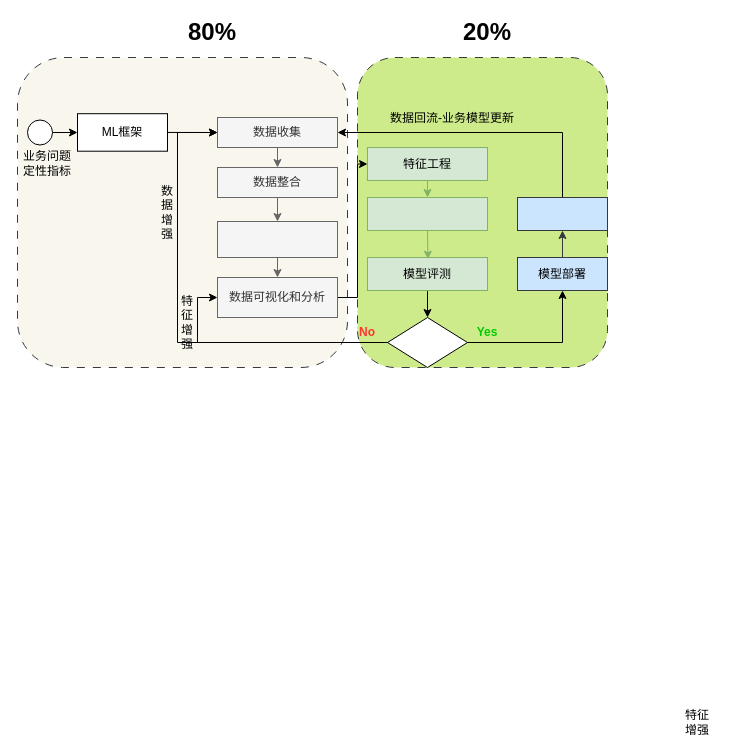
This 735x754 diagram has some shape labels left out. Each missing label, with the centre of its shape:
"数据预处理和清洗" goes at point 277,239.
"模型训练和调优" goes at point 427,213.
"目标达成？" goes at point 427,342.
"运维监管和调试" goes at point 562,213.
